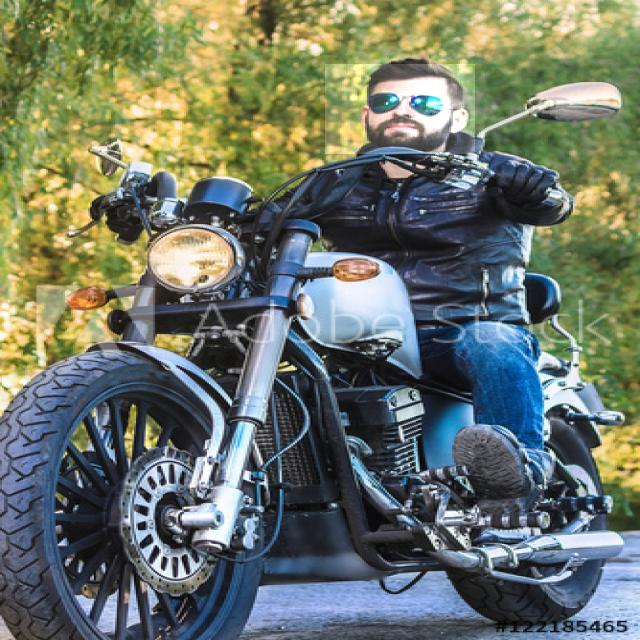No_Helmet: (326, 64, 476, 154)
